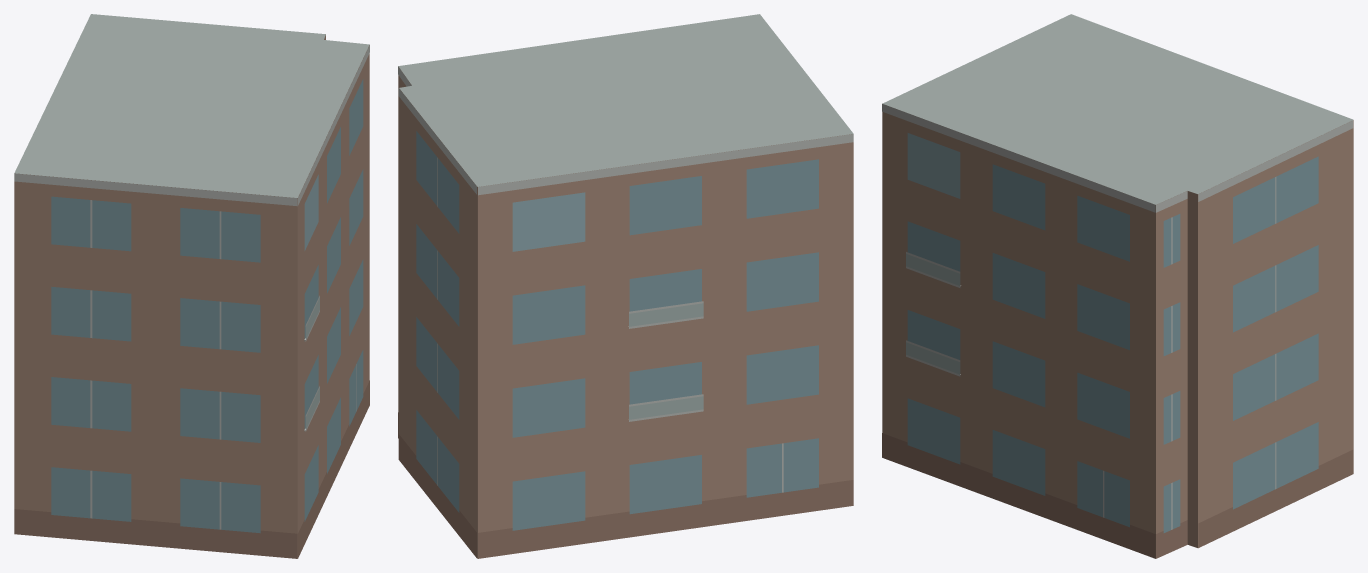
Rendered from survey-upis-32615134.glb.
3 renders of one model, left to right at view 1: azimuth 30°, elevation 25°; view 2: azimuth 150°, elevation 25°; view 3: azimuth 270°, elevation 25°, orthographic. The views are drawn at different scales.
Parts seen in each view (by area): view 1: survey-upis-32615134.tmp; view 2: survey-upis-32615134.tmp; view 3: survey-upis-32615134.tmp.
Part boxes in pixels (bbox=[...]): survey-upis-32615134.tmp: bbox=[14, 14, 369, 558]; survey-upis-32615134.tmp: bbox=[398, 14, 853, 558]; survey-upis-32615134.tmp: bbox=[882, 14, 1353, 558].
Bounding box in the file's own units: 12.5 × 10.8 × 13.05.
